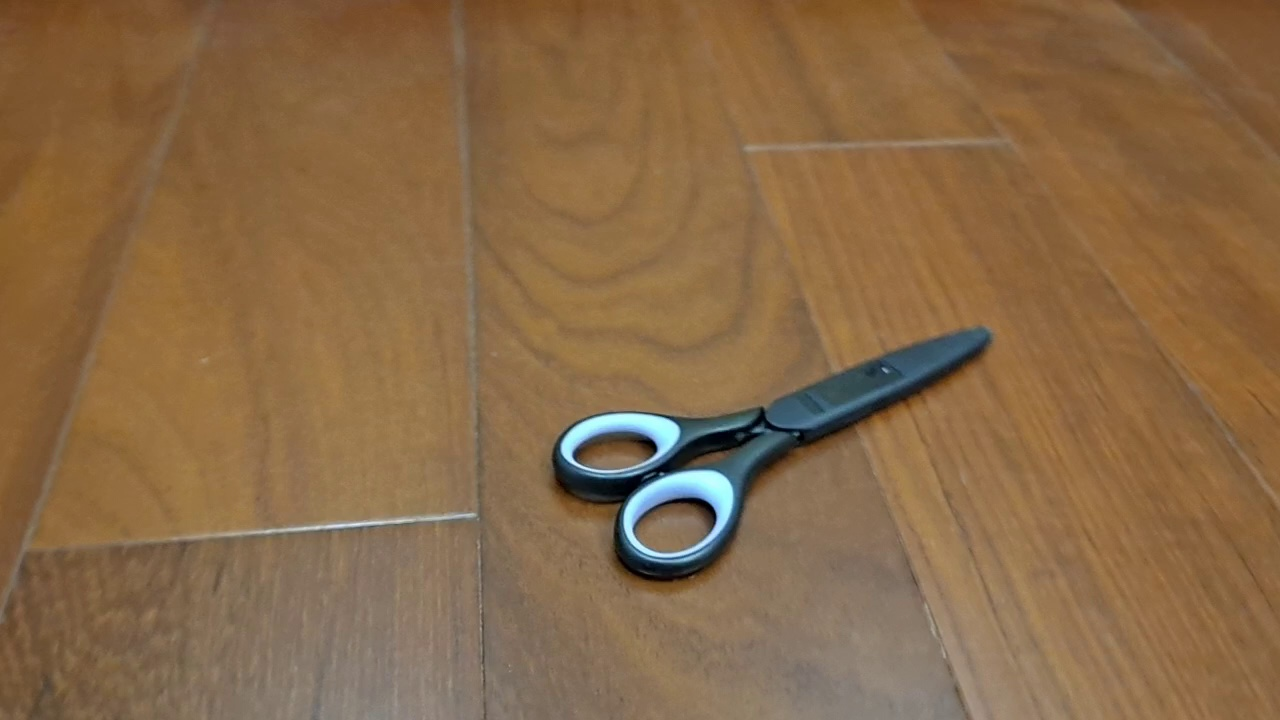scissors: (551, 324, 995, 583)
